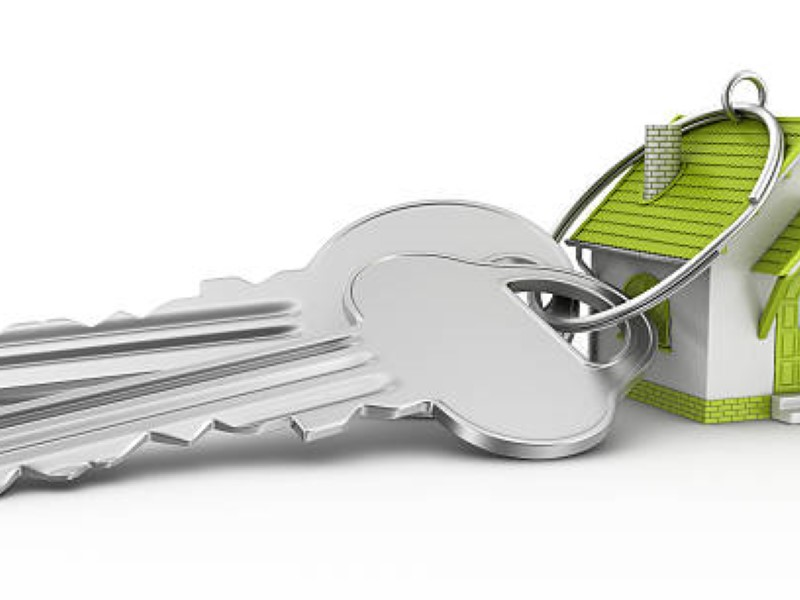key: (1, 197, 654, 501)
